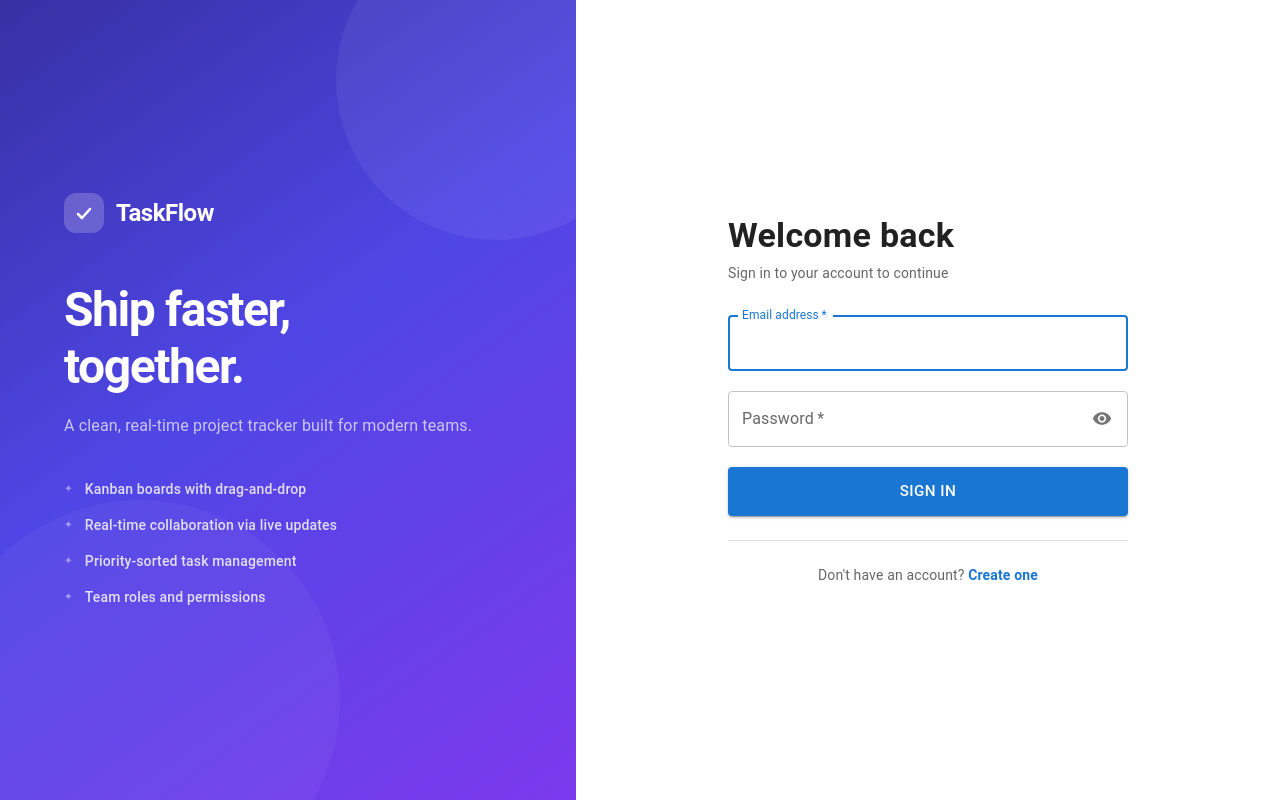
Scenario: LoginPage › shows API error message on failed login
In the field labelled "Email address *": (928, 343) x1=728 y1=315 x2=1128 y2=371, type "alice@example.com"
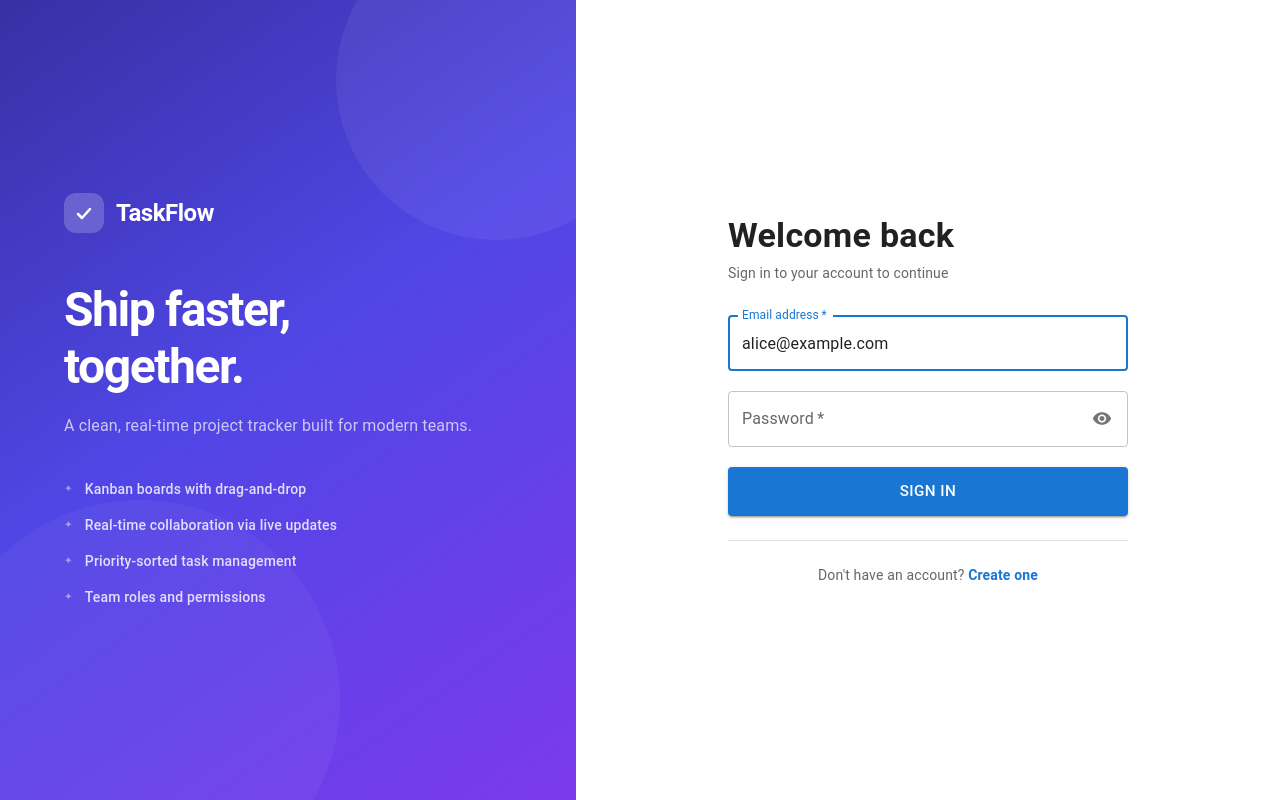
In the password field labelled "Password *": (904, 419) x1=728 y1=391 x2=1079 y2=447, type "wrongpass"
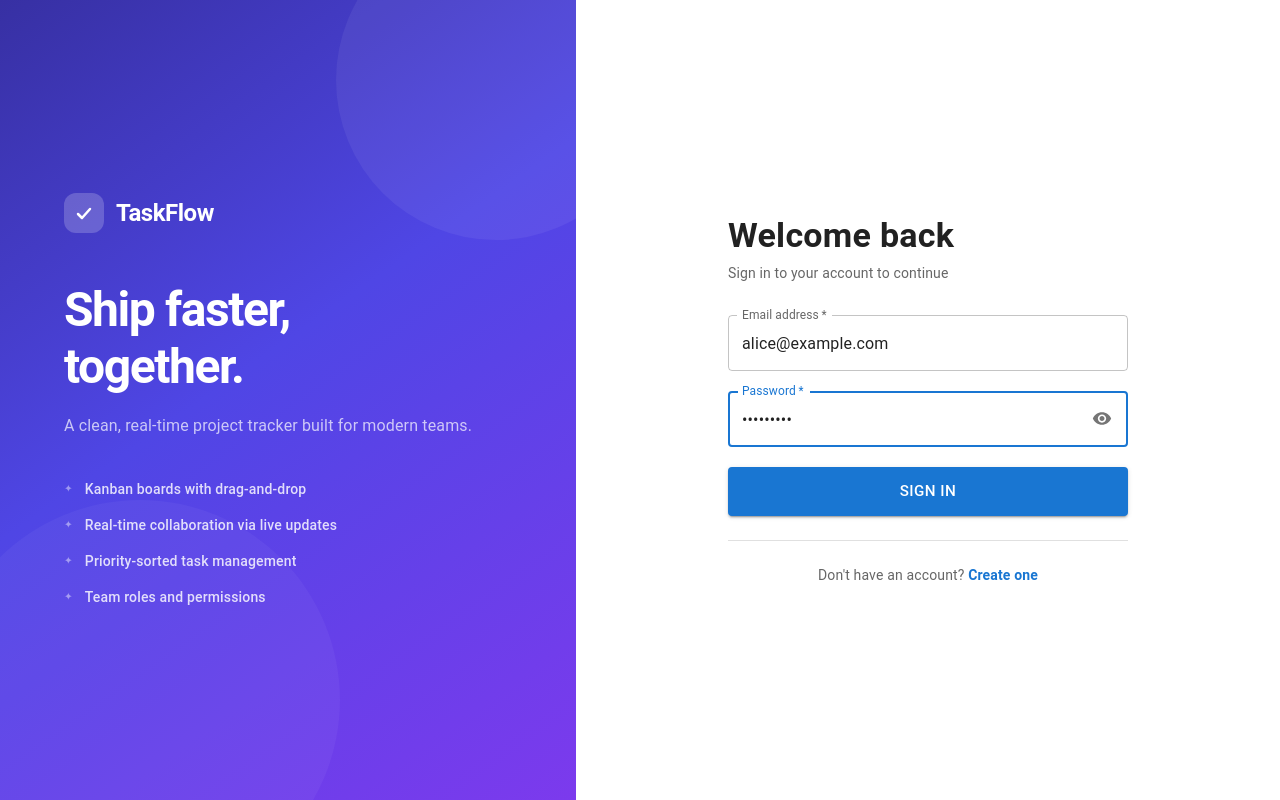
Click the button "Sign in": click(928, 492) x1=728 y1=467 x2=1128 y2=516
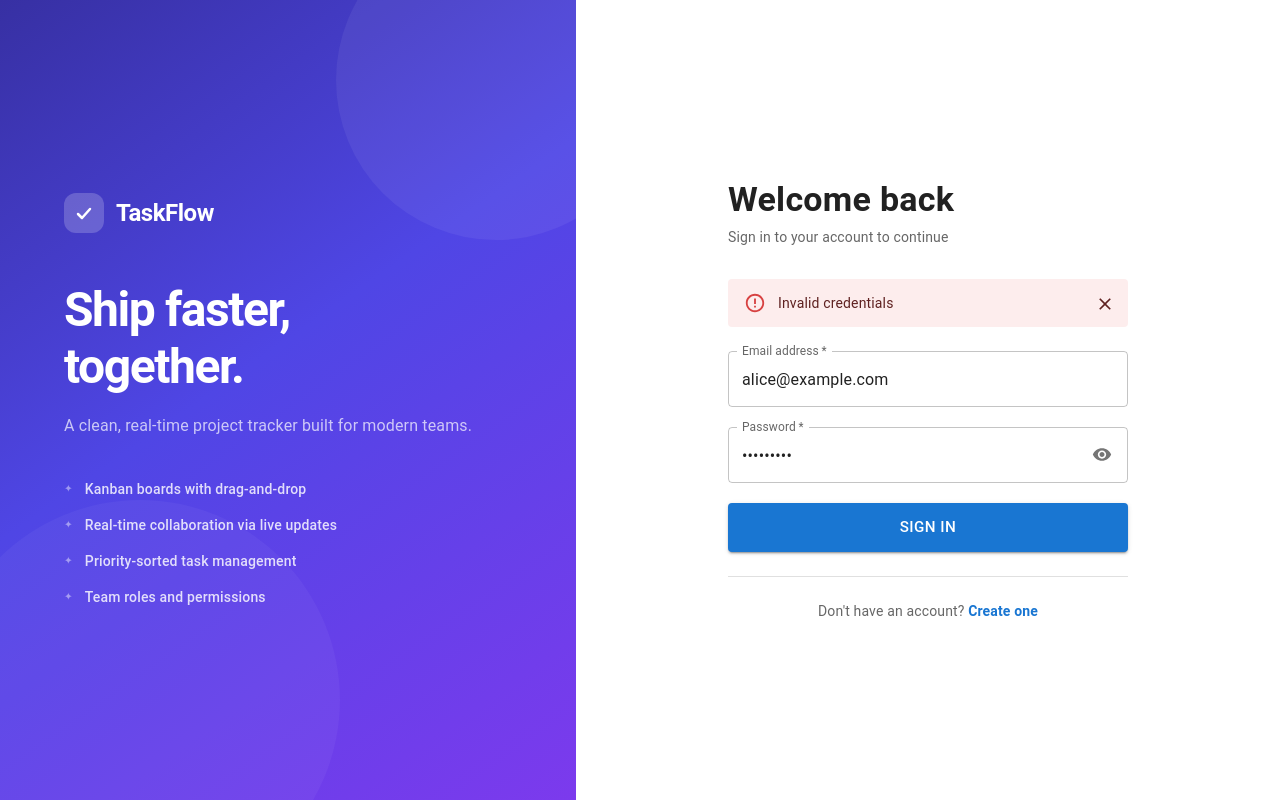
Now the text "Invalid credentials" is shown, box x1=778 y1=295 x2=894 y2=311
